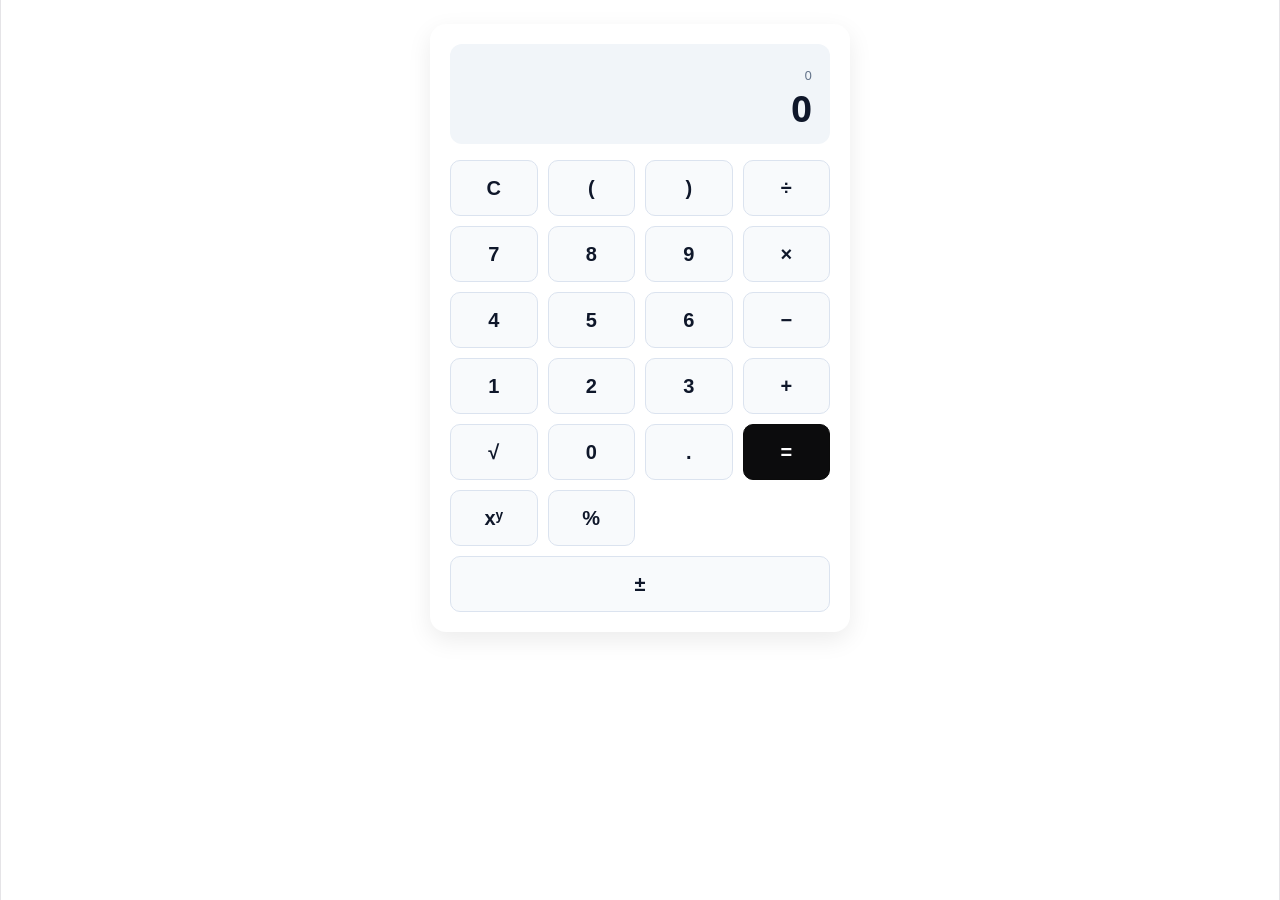
it: ClassicCalculator expression entry › evaluates ordinary arithmetic
Click the button "2" at coordinates (591, 386), box [548, 358, 635, 414]
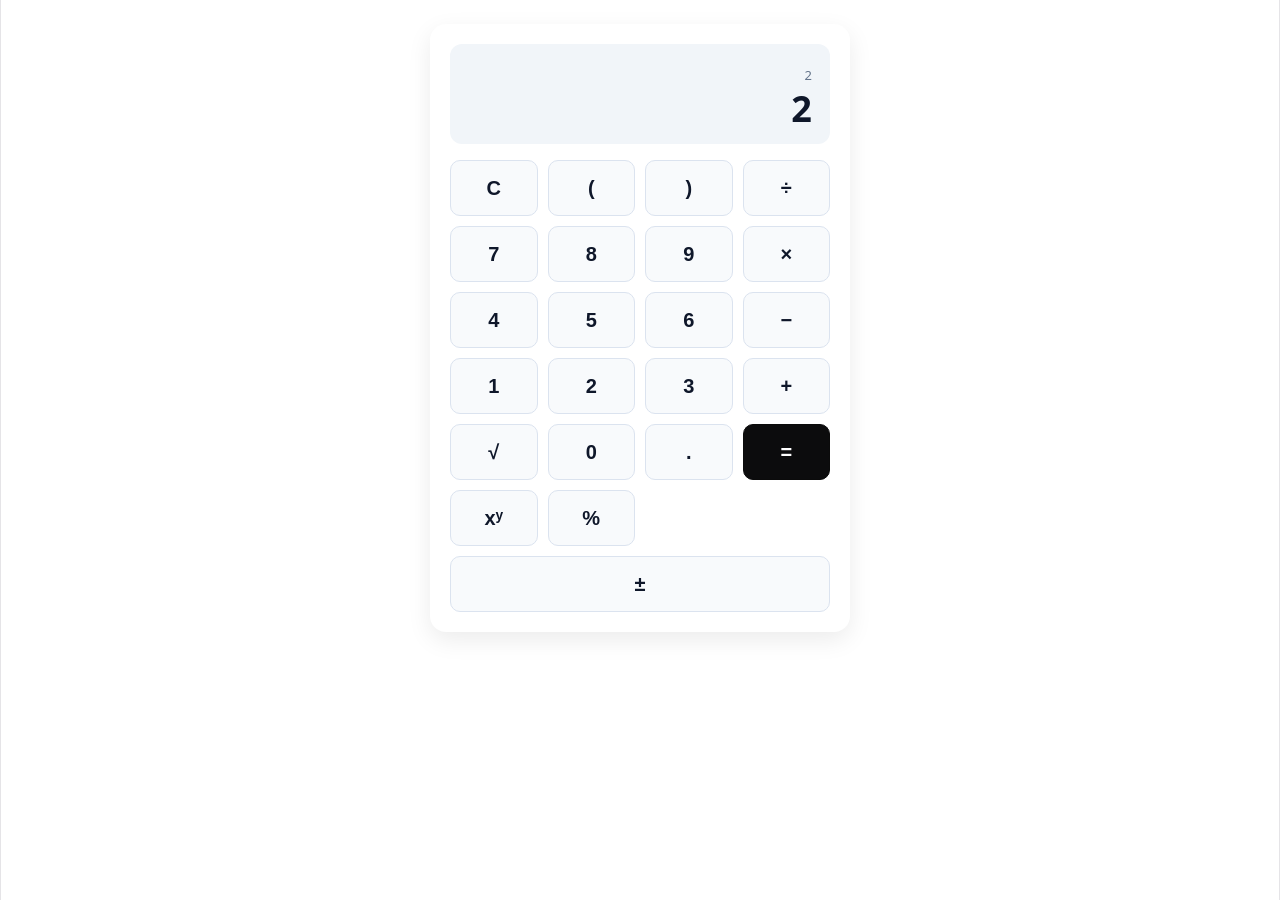
Click the button "+" at coordinates (786, 386), box [742, 358, 830, 414]
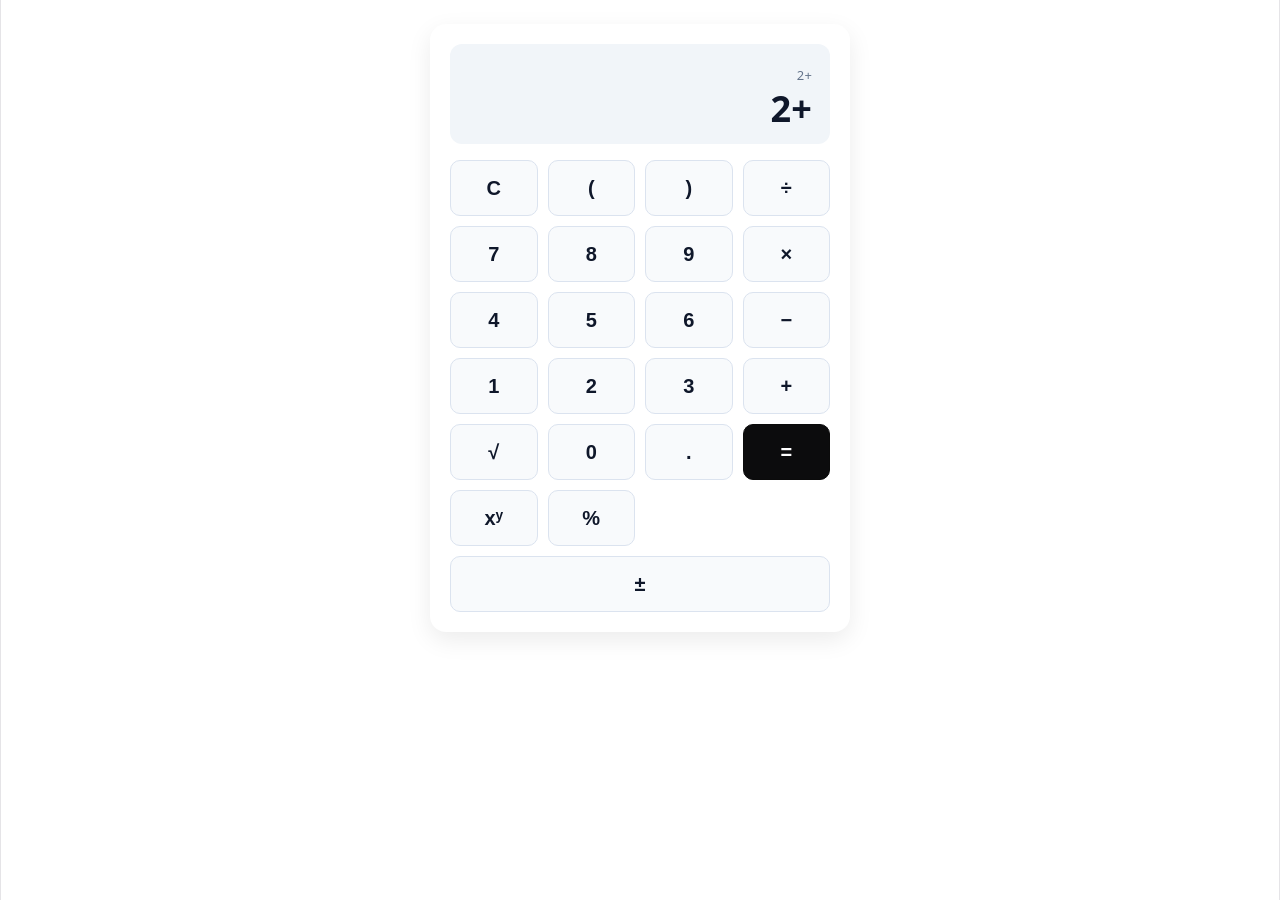
Click the button "3" at coordinates (689, 386), box [645, 358, 732, 414]
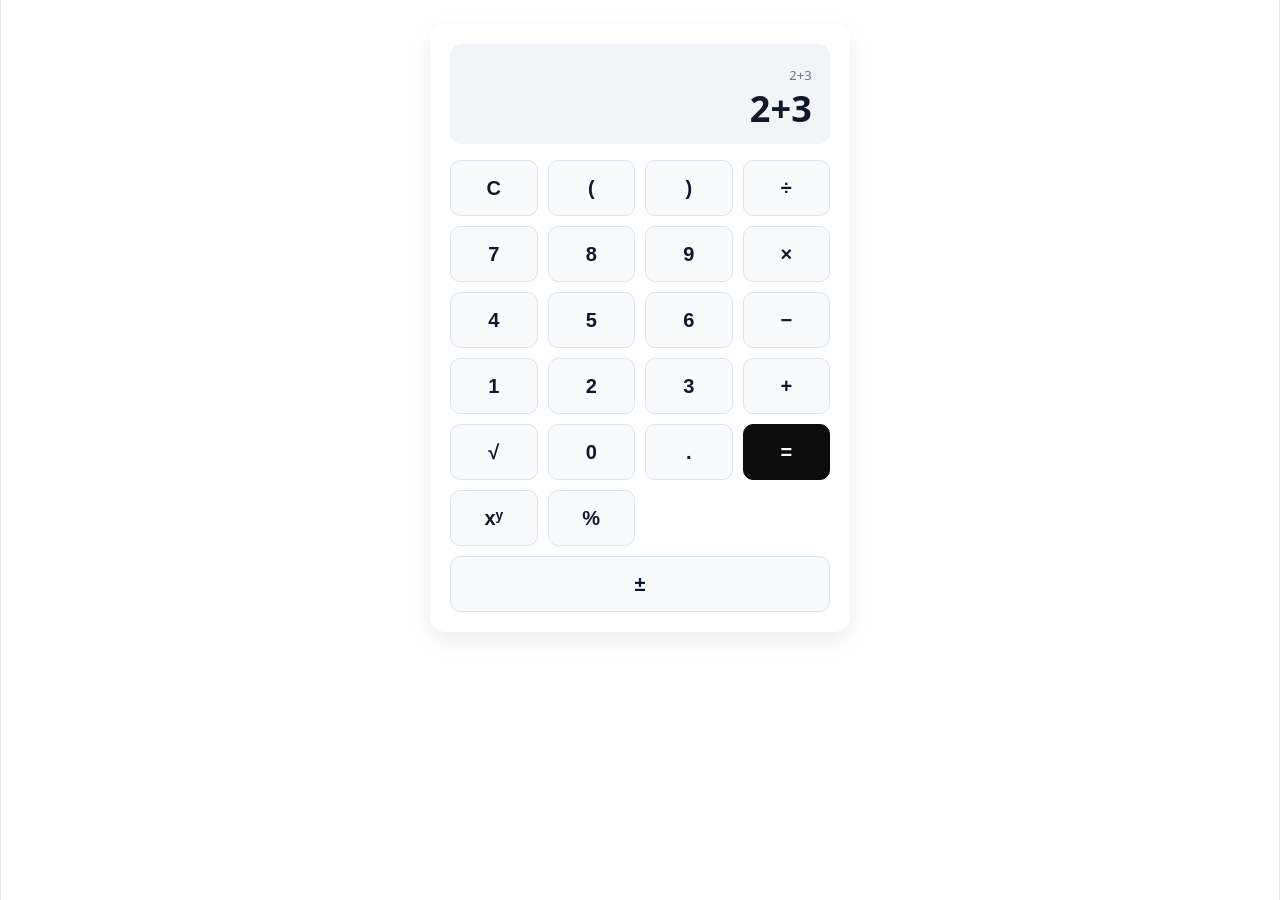
Click the button "=" at coordinates (786, 452), box [742, 424, 830, 480]
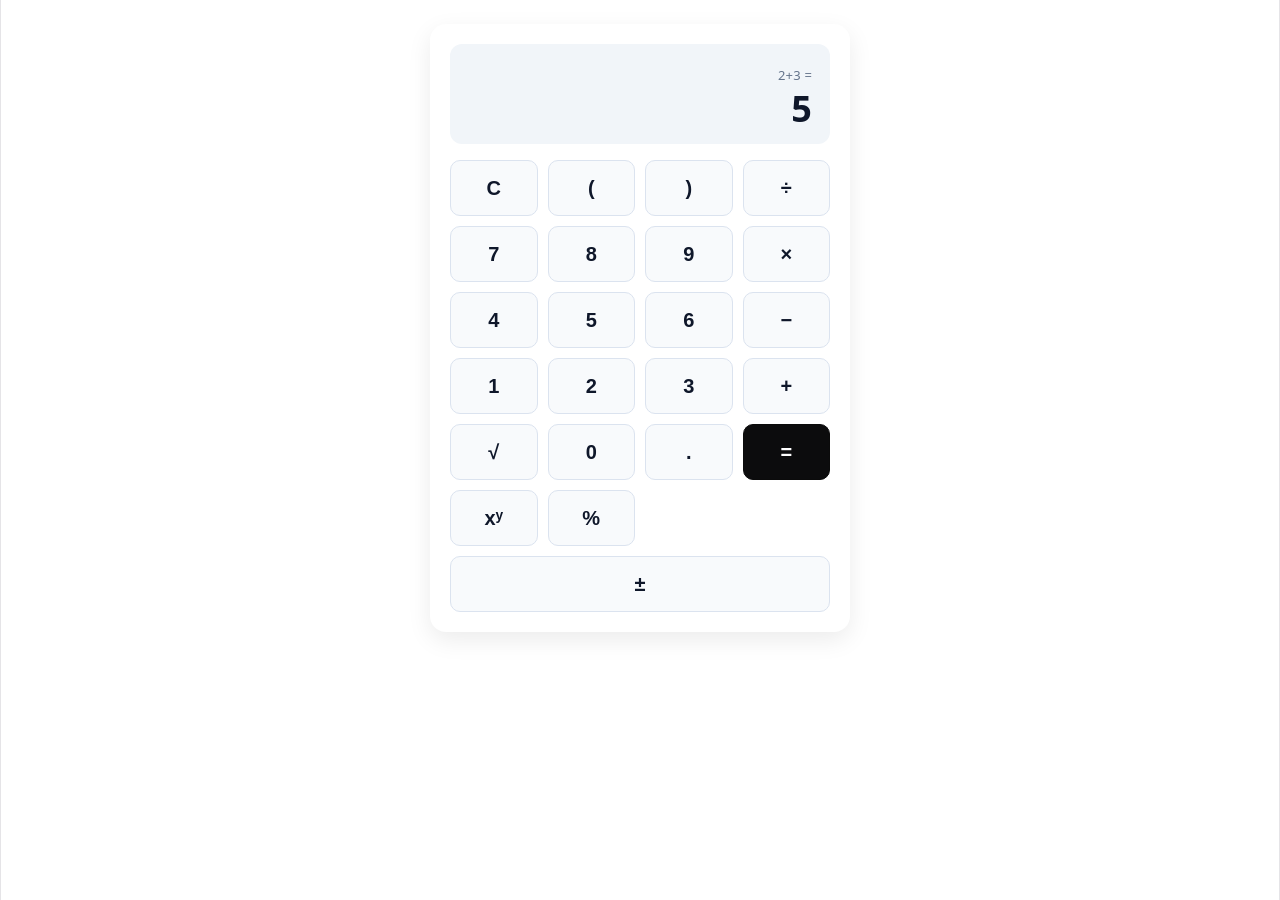
Now the message reads "5", box [791, 84, 812, 133]
